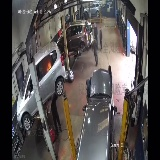fire: (45, 60, 52, 72)
